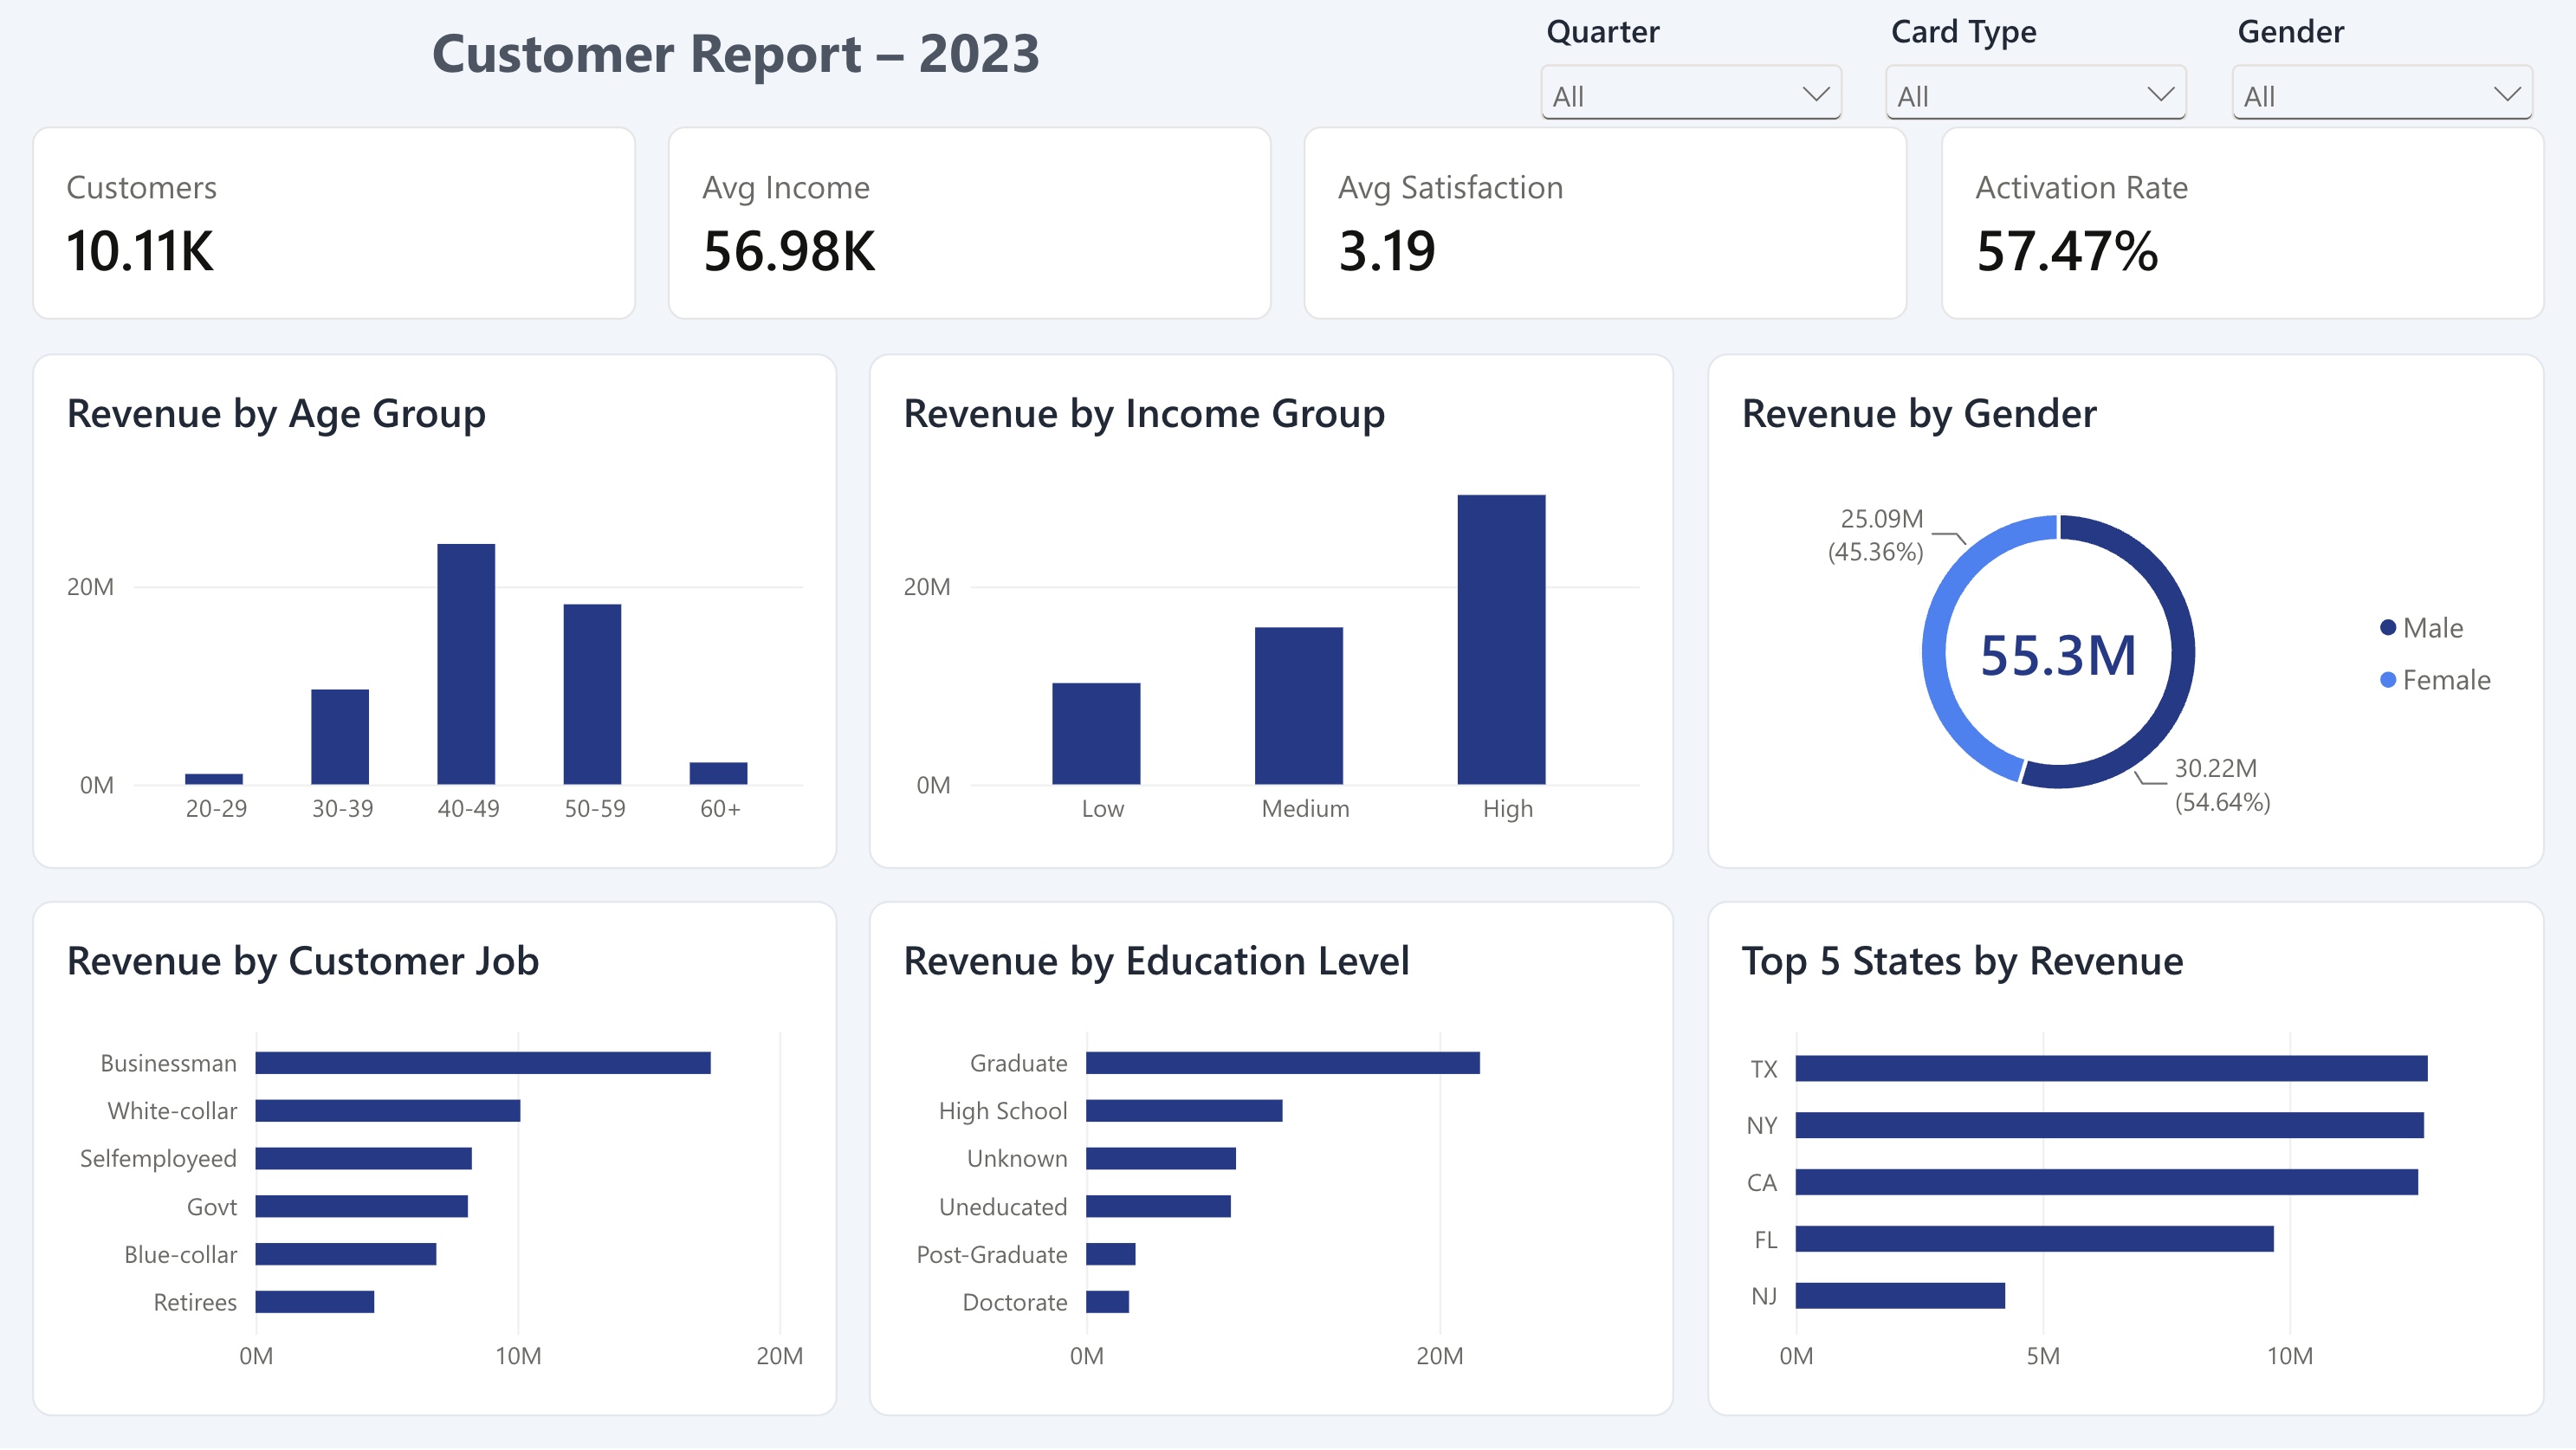

The page's visual inventory and layout, read from the dashboard file:
{"tool":"powerbi","page":{"name":"Customers","canvas":[1280,720],"ordinal":1},"visuals":[{"type":"textbox","box":[16,8,700,48],"z":0},{"type":"slicer","fields":{"Values":["credit_card.Qtr"]},"box":[760,4,160,56],"z":1000},{"type":"slicer","fields":{"Values":["credit_card.Card_Category"]},"box":[932,4,160,56],"z":2000},{"type":"slicer","fields":{"Values":["customer.Gender"]},"box":[1104,4,160,56],"z":3000},{"type":"cardVisual","fields":{"Data":["credit_card.Customers"]},"box":[16,64,300,96],"z":4000},{"type":"cardVisual","fields":{"Data":["credit_card.Avg Income"]},"box":[332,64,300,96],"z":5000},{"type":"cardVisual","fields":{"Data":["credit_card.Avg Satisfaction"]},"box":[648,64,300,96],"z":6000},{"type":"cardVisual","fields":{"Data":["credit_card.Activation Rate"]},"box":[964,64,300,96],"z":7000},{"type":"clusteredColumnChart","title":"Revenue by Age Group","fields":{"Category":["customer.Age_Group"],"Y":["credit_card.Revenue"]},"box":[16,176,400,256],"z":8000},{"type":"clusteredColumnChart","title":"Revenue by Income Group","fields":{"Category":["customer.Income_Group"],"Y":["credit_card.Revenue"]},"box":[432,176,400,256],"z":9000},{"type":"clusteredBarChart","title":"Revenue by Customer Job","fields":{"Category":["customer.Customer_Job"],"Y":["credit_card.Revenue"]},"box":[16,448,400,256],"z":10000},{"type":"clusteredBarChart","title":"Revenue by Education Level","fields":{"Category":["customer.Education_Level"],"Y":["credit_card.Revenue"]},"box":[432,448,400,256],"z":11000},{"type":"donutChart","title":"Revenue by Gender","fields":{"Category":["customer.Gender"],"Y":["credit_card.Revenue"]},"box":[848,176,416,256],"z":12000},{"type":"clusteredBarChart","title":"Top 5 States by Revenue","fields":{"Category":["customer.state_cd"],"Y":["credit_card.Revenue"]},"box":[848,448,416,256],"z":13000}]}

Visuals, with their boxes in screenshot pixels (x1, y1, x2, y2), scaled from the page's 1280x720 canvas onto the 2576x1450 screenshot:
textbox: 32/16/1441/113
slicer - credit_card.Qtr: 1530/8/1852/121
slicer - credit_card.Card_Category: 1875/8/2197/121
slicer - customer.Gender: 2222/8/2544/121
cardVisual - credit_card.Customers: 32/129/636/322
cardVisual - credit_card.Avg Income: 668/129/1272/322
cardVisual - credit_card.Avg Satisfaction: 1304/129/1908/322
cardVisual - credit_card.Activation Rate: 1940/129/2544/322
"Revenue by Age Group" clusteredColumnChart: 32/354/838/870
"Revenue by Income Group" clusteredColumnChart: 870/354/1674/870
"Revenue by Customer Job" clusteredBarChart: 32/903/838/1418
"Revenue by Education Level" clusteredBarChart: 870/903/1674/1418
"Revenue by Gender" donutChart: 1706/354/2544/870
"Top 5 States by Revenue" clusteredBarChart: 1706/903/2544/1418
